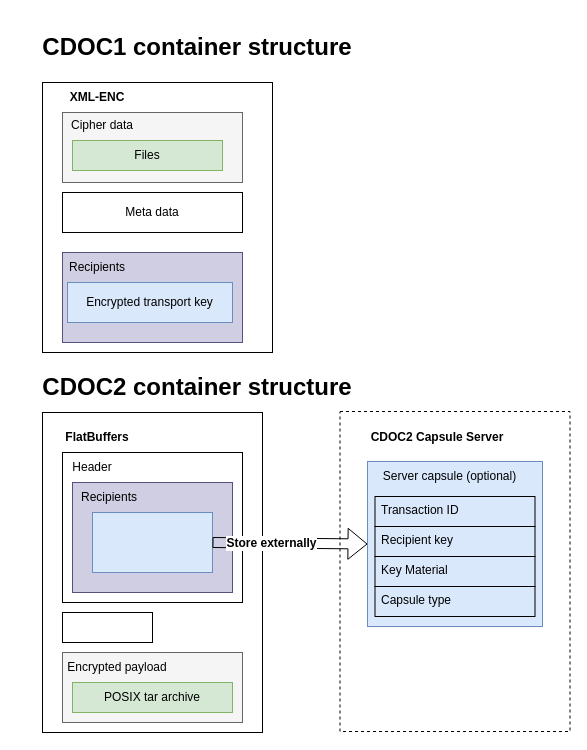
The diagram is 587 pixels wide and 750 high, and some of its shapes have lost their labels. The shapes that lost their labels are listed below. From the top down, each one's box as (x1, y1, x2, y2) in pixels, then its label:
(92, 512, 212, 572): Container capsule (optional)
(62, 612, 152, 642): HMAC
